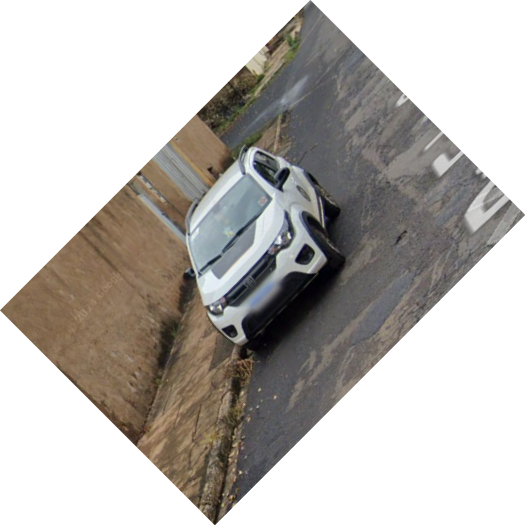car: (179, 140, 353, 359)
